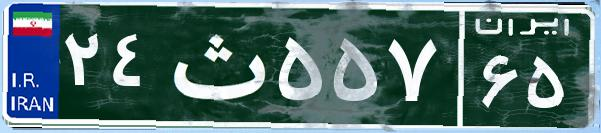2: (57, 26, 110, 107)
4: (110, 28, 158, 105)
5: (273, 28, 330, 110), (330, 28, 385, 110), (525, 38, 570, 115)
6: (475, 38, 525, 113)
7: (385, 28, 445, 110)
ث: (158, 15, 273, 115)
